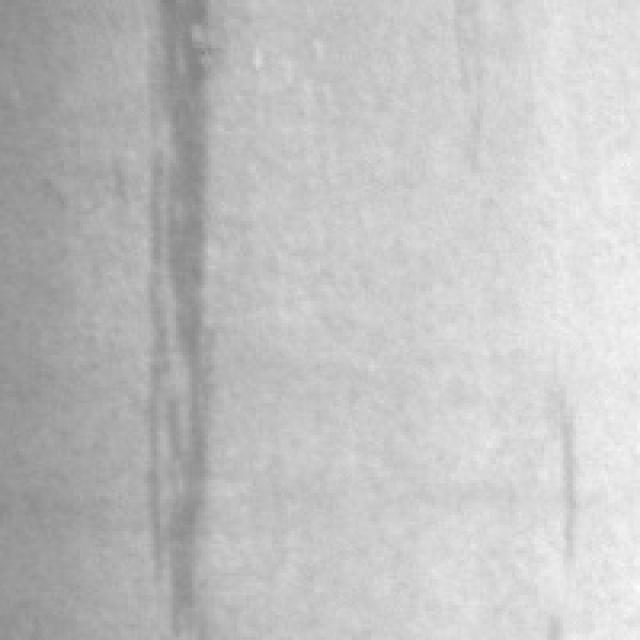inclusion: (141, 0, 230, 624), (534, 374, 598, 580)
